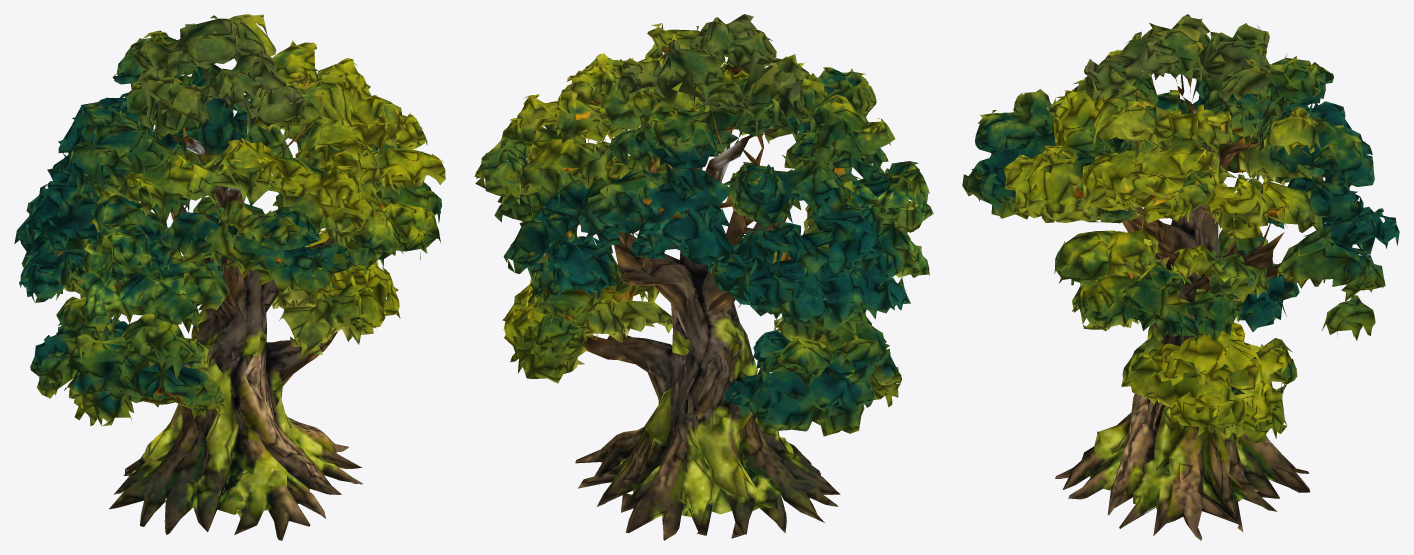
File: central_tree_outer.glb
The picture shows the model from 3 angles, left to right: view 1: azimuth 30°, elevation 25°; view 2: azimuth 150°, elevation 25°; view 3: azimuth 270°, elevation 25°; orthographic projection. The views are drawn at different scales.
Visible parts, largest first — view 1: leaves_left_02, leaves_left_01, leaves_right_02, leaves_center, trunk, branches_right, branches_left, branches_center, leaves_right_01, small_vines, root_surface_left, root_surface_center (+1 smaller); view 2: leaves_left_02, leaves_right_02, leaves_center, leaves_left_01, trunk, branches_left, branches_center, leaves_right_01, branches_right, small_vines, root_surface_left, root_surface_center (+1 smaller); view 3: leaves_right_02, branches_right, leaves_center, leaves_right_01, trunk, leaves_left_01, branches_center, leaves_left_02, root_surface_right, root_surface_center, branches_left, small_vines.
Boxes of the visible parts, x1,y1,x2,y2 form: leaves_left_02: [14, 115, 311, 527]; leaves_left_01: [68, 39, 302, 238]; leaves_right_02: [183, 93, 445, 490]; leaves_center: [120, 15, 358, 294]; trunk: [123, 297, 328, 504]; branches_right: [216, 14, 445, 450]; branches_left: [17, 72, 291, 419]; branches_center: [125, 19, 365, 353]; leaves_right_01: [192, 15, 402, 205]; small_vines: [193, 309, 309, 524]; root_surface_left: [109, 455, 249, 534]; root_surface_center: [223, 471, 325, 540]; leaves_left_02: [646, 80, 933, 522]; leaves_right_02: [474, 108, 738, 496]; leaves_center: [565, 14, 843, 308]; leaves_left_01: [669, 35, 895, 229]; trunk: [595, 317, 795, 507]; branches_left: [653, 54, 905, 425]; branches_center: [560, 14, 847, 359]; leaves_right_01: [517, 23, 743, 204]; branches_right: [502, 26, 727, 448]; small_vines: [650, 317, 804, 531]; root_surface_left: [700, 440, 840, 538]; root_surface_center: [621, 443, 808, 540]; leaves_right_02: [1001, 162, 1399, 514]; branches_right: [1006, 71, 1394, 507]; leaves_center: [962, 31, 1386, 232]; leaves_right_01: [1014, 63, 1362, 221]; trunk: [1087, 291, 1283, 500]; leaves_left_01: [977, 14, 1346, 130]; branches_center: [978, 41, 1394, 345]; leaves_left_02: [971, 81, 1372, 331]; root_surface_right: [1107, 470, 1279, 540]; root_surface_center: [1055, 446, 1309, 499]; branches_left: [980, 18, 1351, 321]; small_vines: [1087, 325, 1287, 486].
Bounding box in the file's own units: 10.99 × 12 × 10.49.
1 material, 1 textured.
